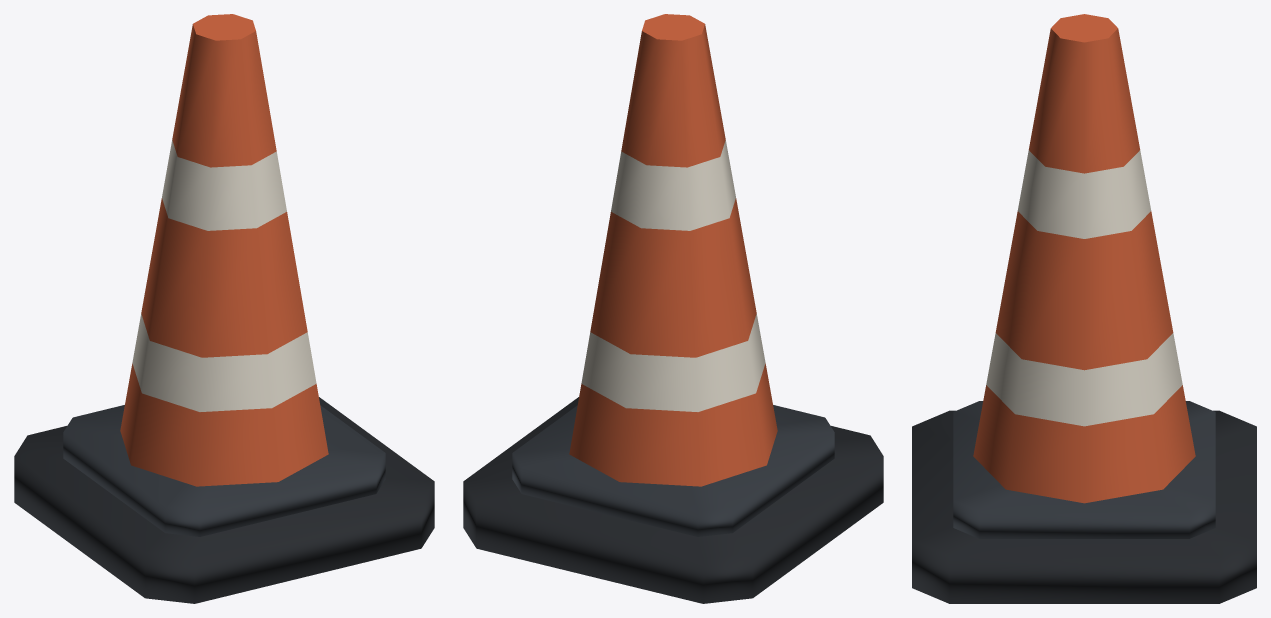
File: traffic-cone.glb
3 renders of one model, left to right at view 1: azimuth 30°, elevation 25°; view 2: azimuth 150°, elevation 25°; view 3: azimuth 270°, elevation 25°, orthographic. The views are drawn at different scales.
Parts seen in each view (by area): view 1: Merged_prop-body, Merged_city-rubber, Merged_city-metal-dark, Merged_city-poster-surface; view 2: Merged_prop-body, Merged_city-rubber, Merged_city-metal-dark, Merged_city-poster-surface; view 3: Merged_prop-body, Merged_city-rubber, Merged_city-poster-surface, Merged_city-metal-dark.
Boxes of the visible parts, x1,y1,x2,y2 form: Merged_prop-body: [120, 14, 328, 486]; Merged_city-rubber: [14, 397, 434, 603]; Merged_city-metal-dark: [63, 405, 385, 536]; Merged_city-poster-surface: [132, 140, 316, 411]; Merged_prop-body: [569, 14, 777, 486]; Merged_city-rubber: [463, 397, 883, 603]; Merged_city-metal-dark: [512, 405, 834, 536]; Merged_city-poster-surface: [581, 140, 765, 411]; Merged_prop-body: [973, 14, 1195, 503]; Merged_city-rubber: [912, 410, 1256, 603]; Merged_city-poster-surface: [986, 150, 1182, 426]; Merged_city-metal-dark: [953, 401, 1215, 538].
Size of what is drawn, in the model's own units: 0.46 by 0.74 by 0.46.
